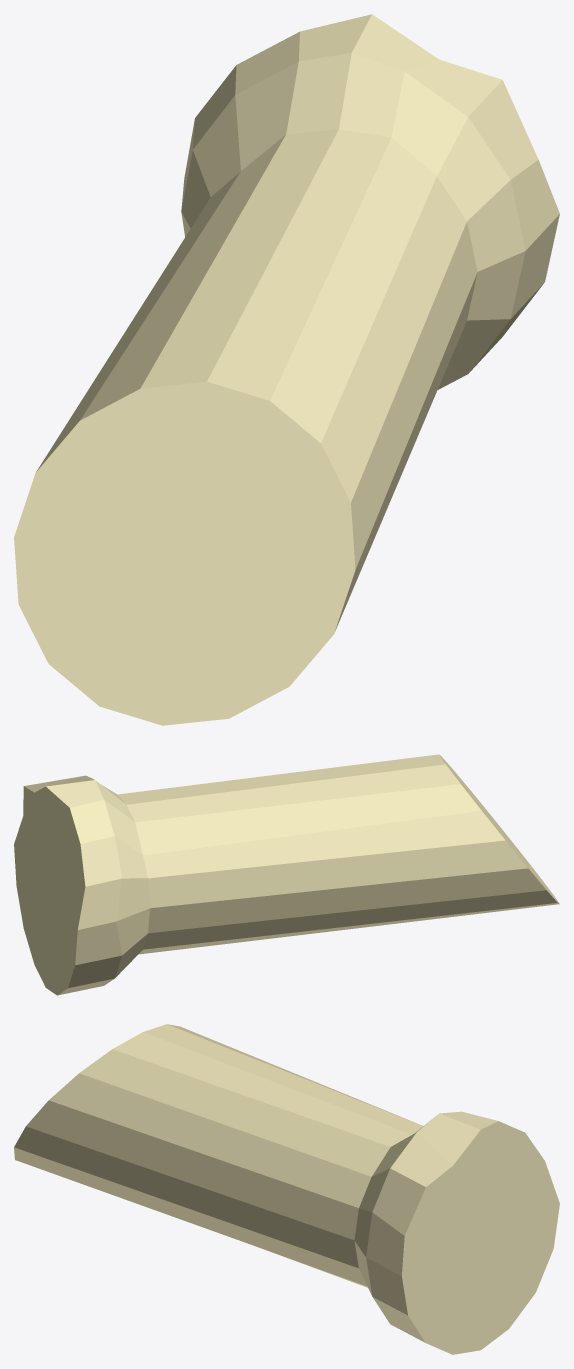
Rendered from Column_broken.fbx.
The picture shows the model from 3 angles, top to bottom: view 1: azimuth 30°, elevation 25°; view 2: azimuth 150°, elevation 25°; view 3: azimuth 270°, elevation 25°; orthographic projection. The views are drawn at different scales.
Parts seen in each view (by area): view 1: Cylinder.001; view 2: Cylinder.001; view 3: Cylinder.001.
Boxes of the visible parts, box(x1,y1,x2,y2) form: Cylinder.001: box(14, 14, 559, 725); Cylinder.001: box(14, 754, 559, 995); Cylinder.001: box(14, 1024, 559, 1354).
Bounding box in the file's own units: 1101 × 509 × 1142.
